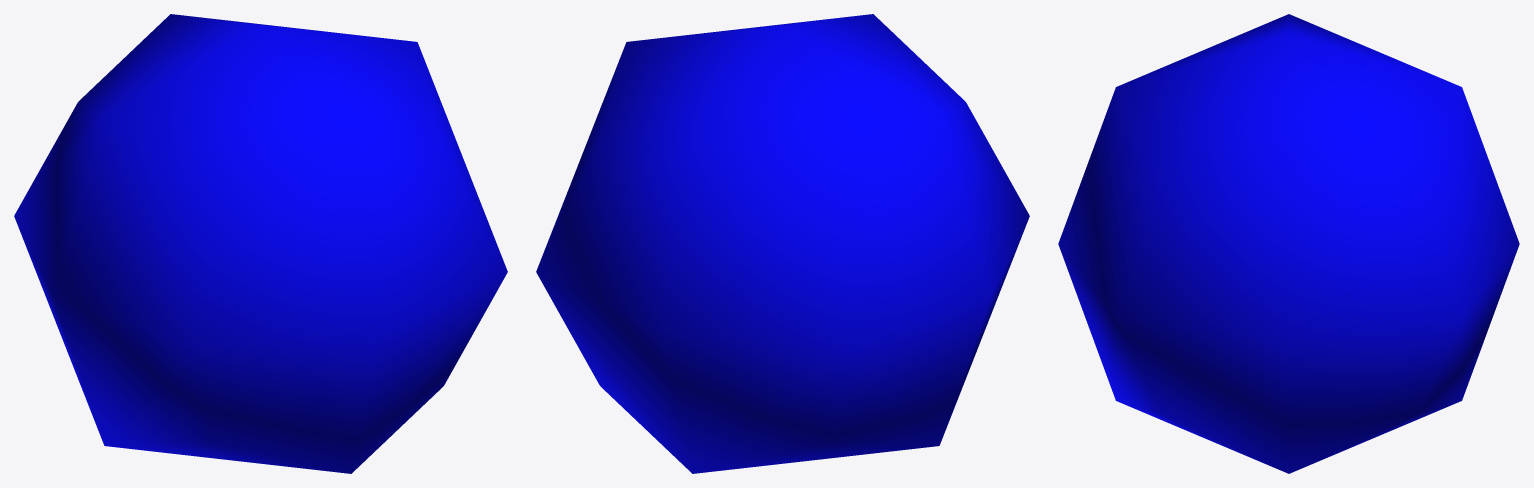
File: hammerPowerUp.fbx
The picture shows the model from 3 angles, left to right: view 1: azimuth 30°, elevation 25°; view 2: azimuth 150°, elevation 25°; view 3: azimuth 270°, elevation 25°; orthographic projection. The views are drawn at different scales.
Visible parts, largest first — view 1: pCube2; view 2: pCube2; view 3: pCube2.
Part boxes in pixels (left/top/right/bottom): pCube2: left=14, top=14, right=507, bottom=473; pCube2: left=536, top=14, right=1029, bottom=473; pCube2: left=1058, top=14, right=1519, bottom=473.
Size of the model in its own units: 8.34 by 8.34 by 8.34.
